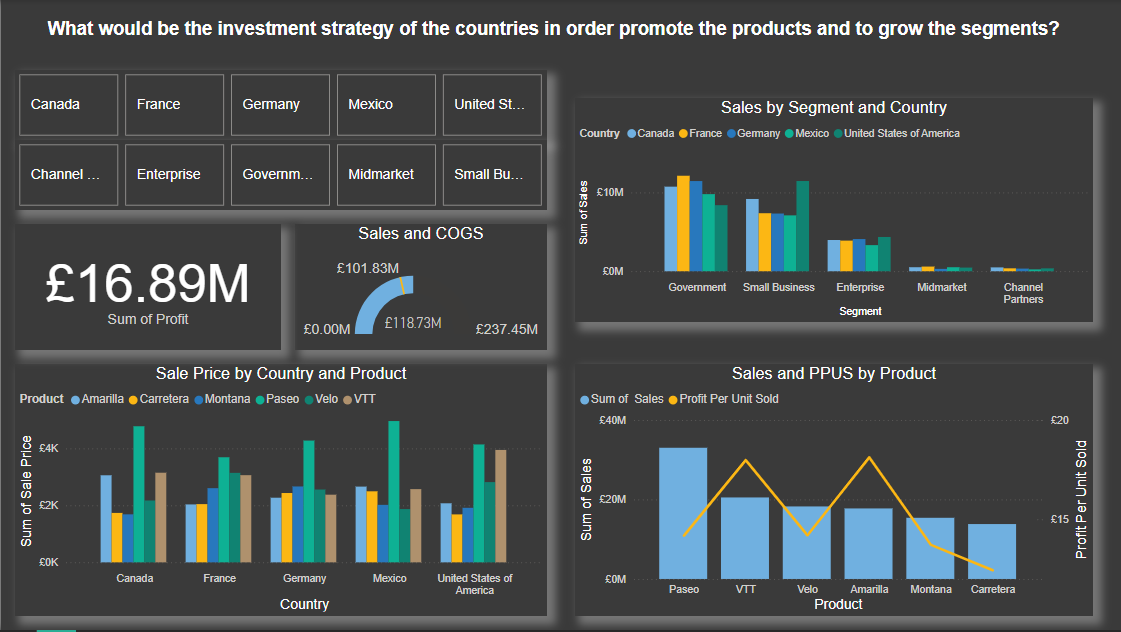

What the dashboard file says about the page in this screenshot:
{"tool":"powerbi","page":{"name":"Page 1","canvas":[1280,720],"ordinal":0},"visuals":[{"type":"textbox","box":[48,16,1216,64],"z":0},{"type":"advancedSlicerVisual","fields":{"Values":["Sheet1.Country"]},"box":[16,80,608,80],"z":1000},{"type":"lineClusteredColumnComboChart","title":"Sales and PPUS by Product","fields":{"Category":["Sheet1.Product"],"Y2":["Sheet1.Profit Per Unit Sold"],"Y":["Sum(Sheet1. Sales)"]},"box":[656,416,592,288],"z":2000},{"type":"clusteredColumnChart","title":"Sales by Segment and Country","fields":{"Y":["Sum(Sheet1. Sales)"],"Category":["Sheet1.Segment"],"Series":["Sheet1.Country"]},"box":[656,112,592,256],"z":3000},{"type":"clusteredColumnChart","title":"Sale Price by Country and Product","fields":{"Y":["Sum(Sheet1.Sale Price)"],"Category":["Sheet1.Country"],"Series":["Sheet1.Product"]},"box":[16,416,608,288],"z":4000},{"type":"advancedSlicerVisual","fields":{"Values":["Sheet1.Segment"]},"box":[16,160,608,80],"z":5000},{"type":"gauge","title":"Sales and COGS","fields":{"Y":["Sum(Sheet1. Sales)"],"TargetValue":["Sum(Sheet1.COGS)"]},"box":[336,256,288,144],"z":6000},{"type":"card","fields":{"Values":["Sum(Sheet1.Profit)"]},"box":[16,256,304,144],"z":7000}]}

Visuals, with their boxes in screenshot pixels (x1, y1, x2, y2), scaled from the page's 1280x720 canvas onto the 1121x632 screenshot:
textbox: {"left": 42, "top": 14, "right": 1107, "bottom": 70}
advancedSlicerVisual - Sheet1.Country: {"left": 14, "top": 70, "right": 546, "bottom": 140}
"Sales and PPUS by Product" lineClusteredColumnComboChart: {"left": 575, "top": 365, "right": 1093, "bottom": 618}
"Sales by Segment and Country" clusteredColumnChart: {"left": 575, "top": 98, "right": 1093, "bottom": 323}
"Sale Price by Country and Product" clusteredColumnChart: {"left": 14, "top": 365, "right": 546, "bottom": 618}
advancedSlicerVisual - Sheet1.Segment: {"left": 14, "top": 140, "right": 546, "bottom": 211}
"Sales and COGS" gauge: {"left": 294, "top": 225, "right": 546, "bottom": 351}
card - Sum(Sheet1.Profit): {"left": 14, "top": 225, "right": 280, "bottom": 351}
